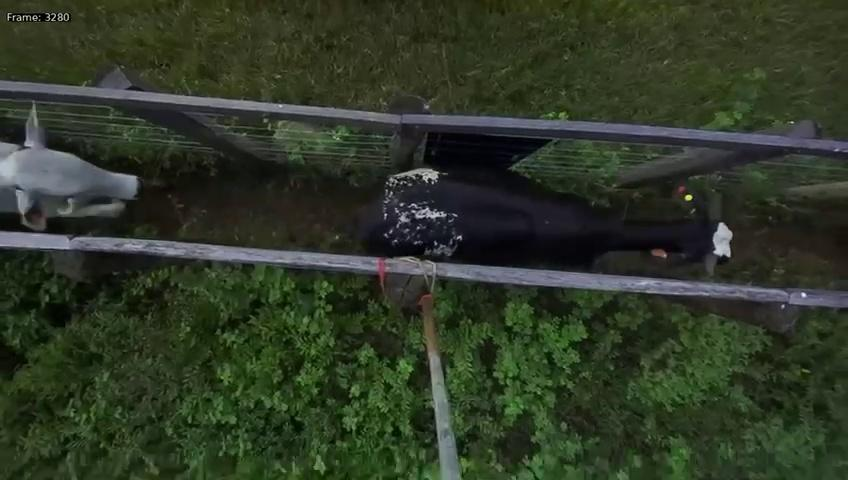cattle: (358, 160, 740, 286)
